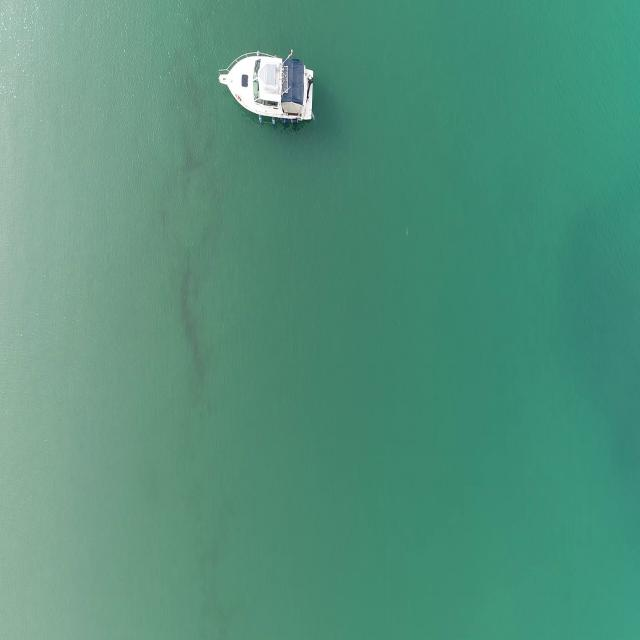boat: (216, 50, 318, 128)
